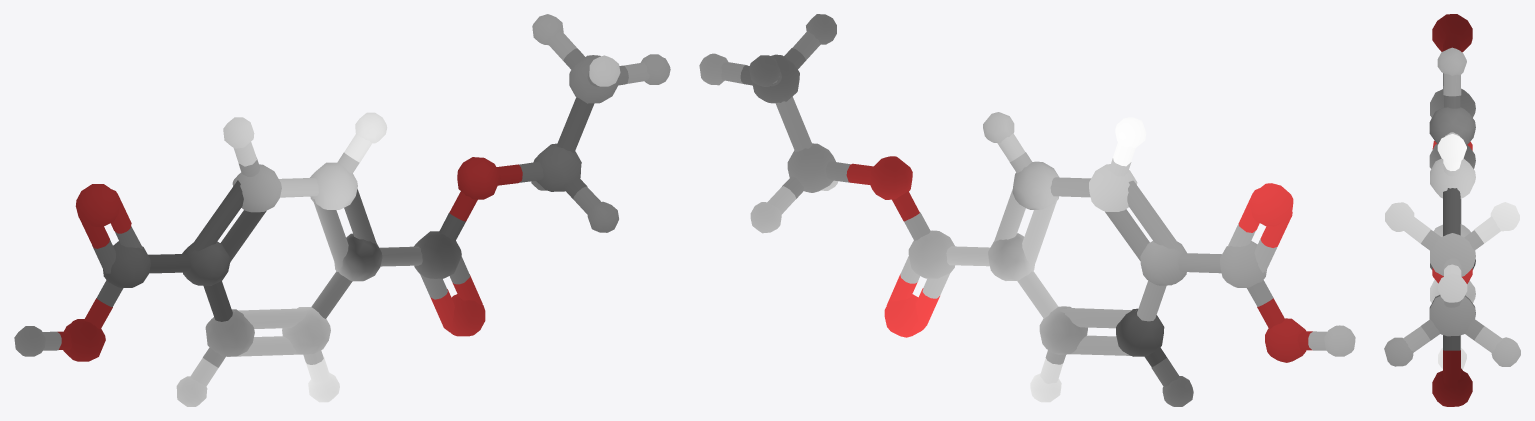
The model's file is polymer.glb.
The picture shows the model from 3 angles, left to right: view 1: azimuth 30°, elevation 25°; view 2: azimuth 150°, elevation 25°; view 3: azimuth 270°, elevation 25°; orthographic projection. The views are drawn at different scales.
Parts seen in each view (by area): view 1: PET; view 2: PET; view 3: PET.
Part boxes in pixels (bbox=[...]): PET: bbox=[14, 14, 670, 406]; PET: bbox=[699, 14, 1355, 406]; PET: bbox=[1384, 14, 1520, 406].
Size of the model in its own units: 11.71 by 5.21 by 2.27.
